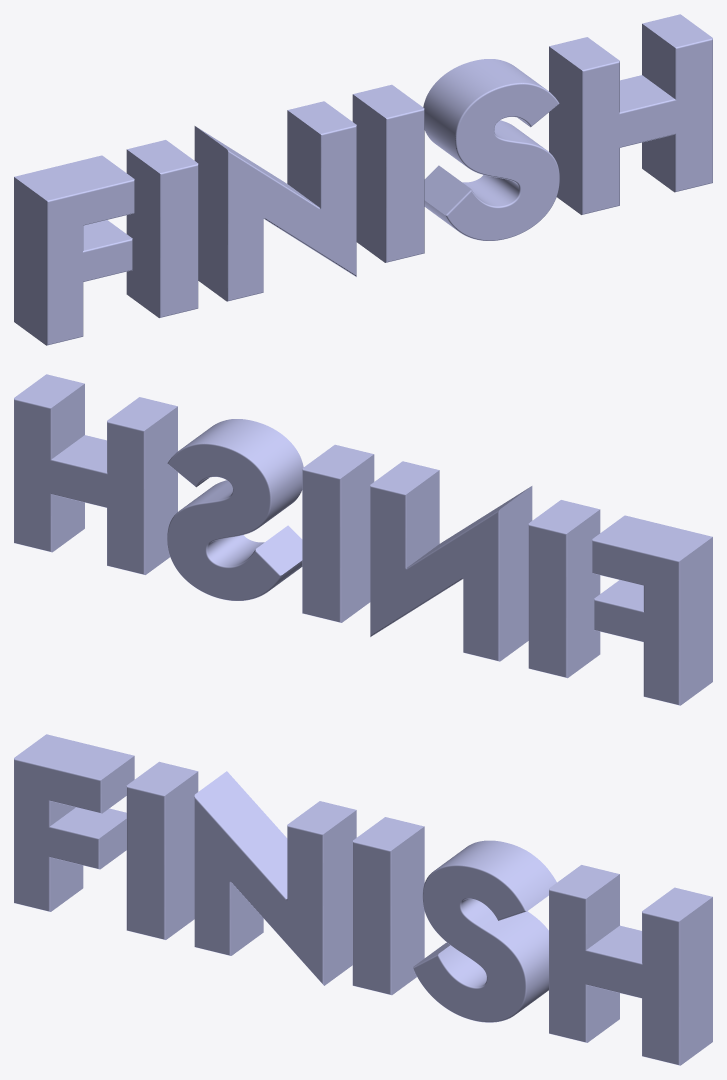
File: finish.glb
3 views of the same model, one above another, from view 1: azimuth 30°, elevation 25°; view 2: azimuth 150°, elevation 25°; view 3: azimuth 330°, elevation 25° (orthographic).
Parts seen in each view (by area): view 1: Text; view 2: Text; view 3: Text.
Boxes of the visible parts, x1,y1,x2,y2 form: Text: (14, 14, 712, 345); Text: (14, 374, 712, 705); Text: (14, 734, 712, 1065).
Size of the model in its own units: 15.23 by 3.49 by 1.35.
